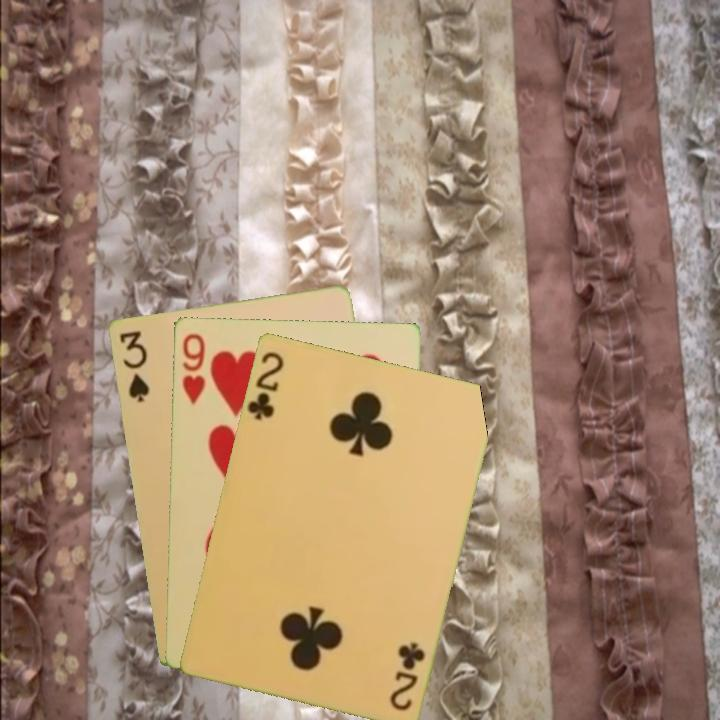2c: (243, 347, 287, 422), (386, 638, 428, 713)
3s: (115, 326, 152, 405)
9h: (178, 330, 208, 406)
